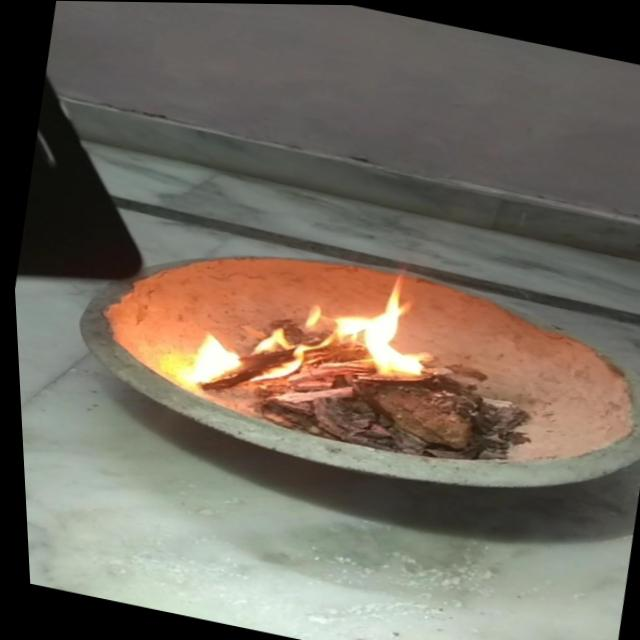fire: (175, 256, 444, 429)
